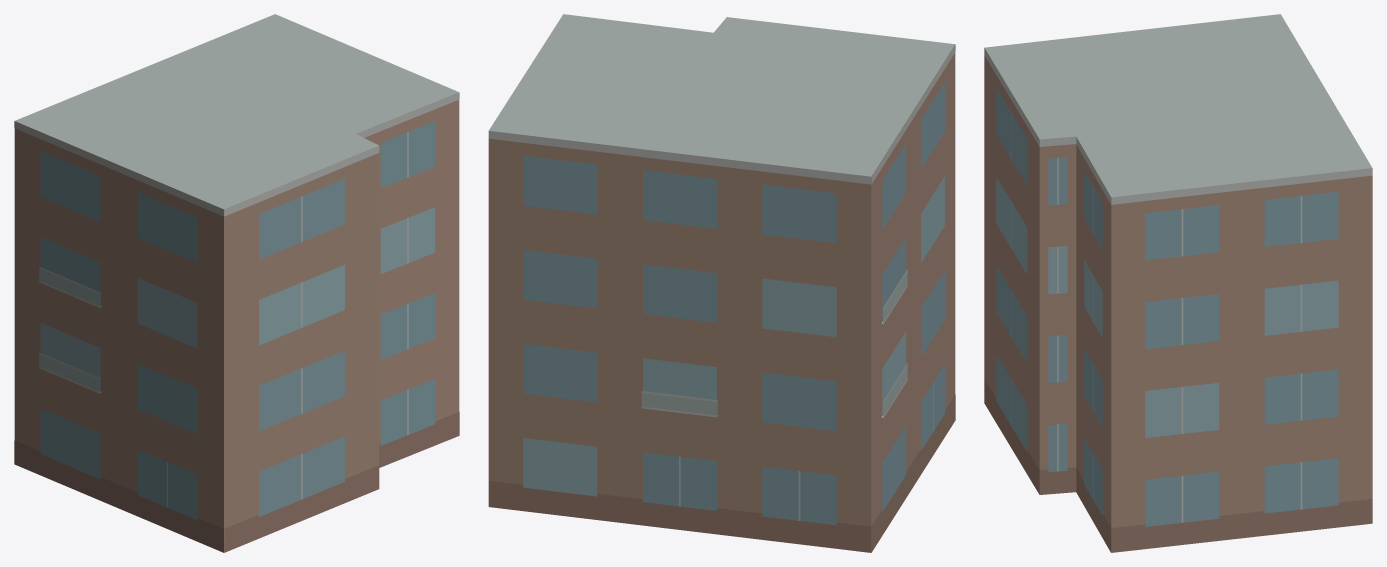
File: survey-upis-33033348.glb
The picture shows the model from 3 angles, left to right: view 1: azimuth 30°, elevation 25°; view 2: azimuth 150°, elevation 25°; view 3: azimuth 270°, elevation 25°; orthographic projection. The views are drawn at different scales.
Visible parts, largest first — view 1: survey-upis-33033348.tmp; view 2: survey-upis-33033348.tmp; view 3: survey-upis-33033348.tmp.
Boxes of the visible parts, x1,y1,x2,y2 form: survey-upis-33033348.tmp: (14, 14, 459, 552); survey-upis-33033348.tmp: (488, 14, 955, 552); survey-upis-33033348.tmp: (984, 14, 1372, 552).
Size of the model in its own units: 12.9 by 11.65 by 11.54.
